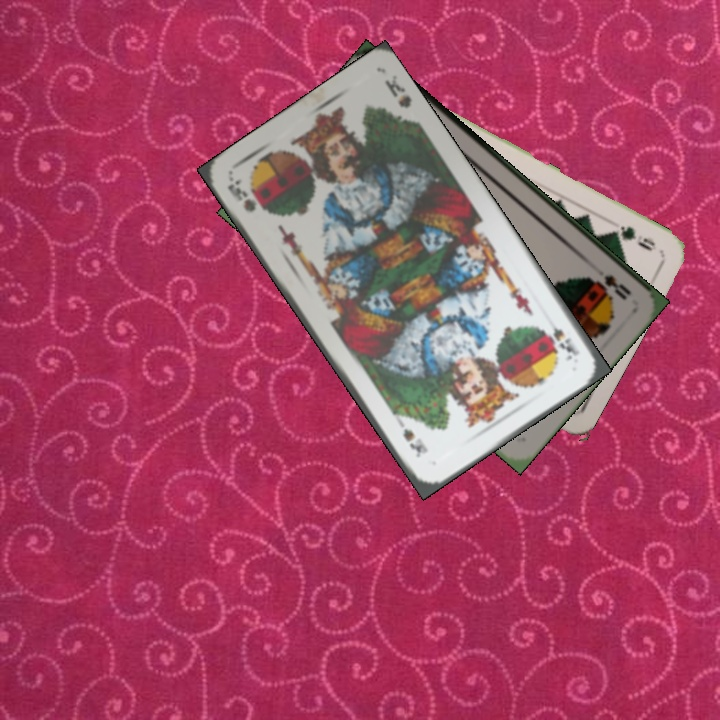G9: (605, 221, 658, 254)
SK: (541, 311, 582, 364), (223, 174, 260, 215)
SO: (593, 270, 634, 303)
